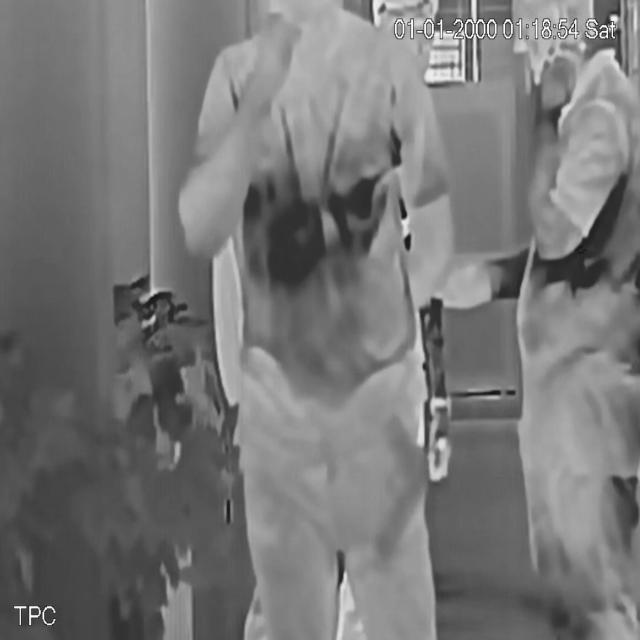Weapon: (364, 415, 442, 569)
